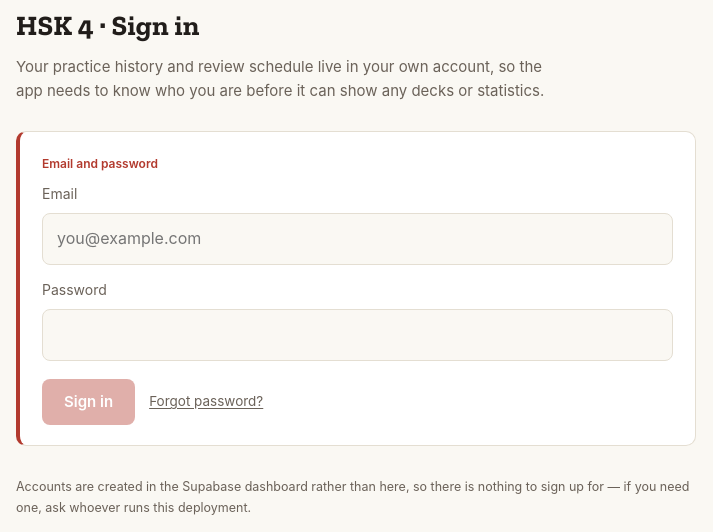
Scenario: LoginComponent › drops to email-only for a forgotten password
In the field labelled "Email": (358, 239) [42,213,673,265], type "learner@example.com"
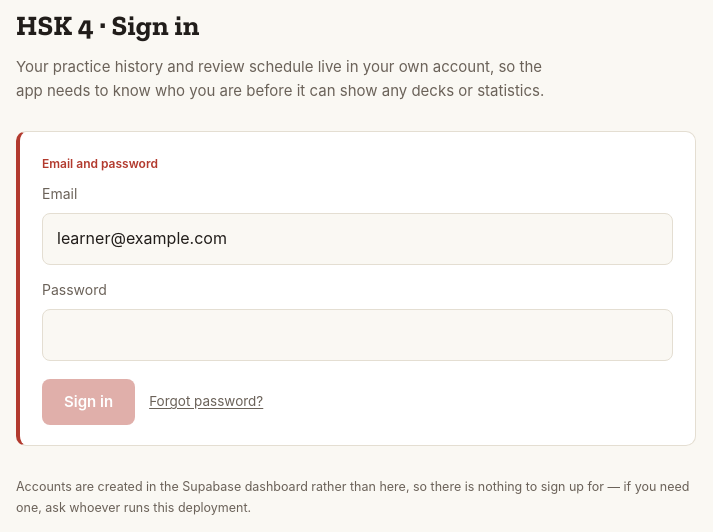
In the password field labelled "Password": (358, 335) [42,309,673,361], type "hunter2"
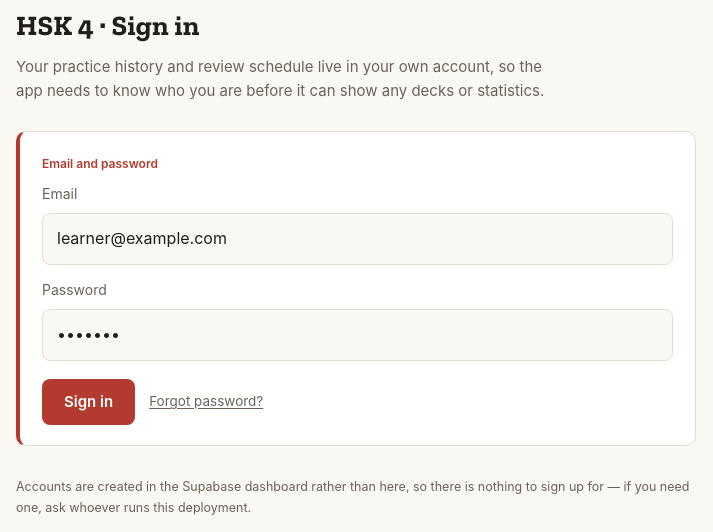
Click the button with class "linkbtn": (206, 402) [149,387,263,417]
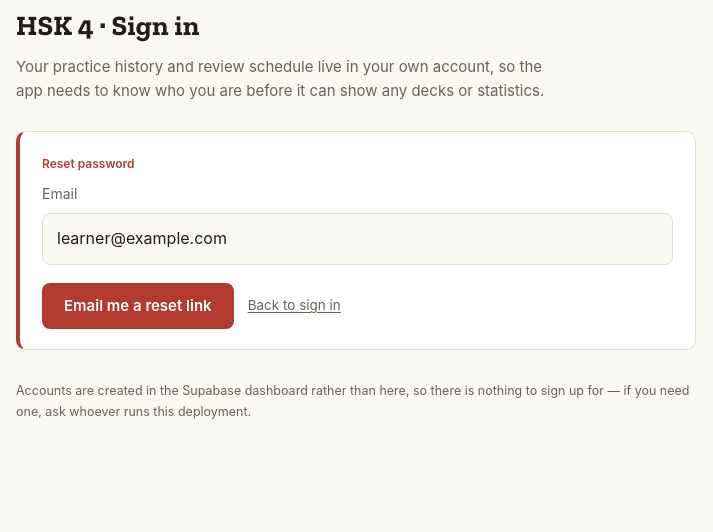
Expected: the submit button is enabled, [42,283,234,329]
Expected: the text "Email me a reset link" is shown, [42,283,234,329]
